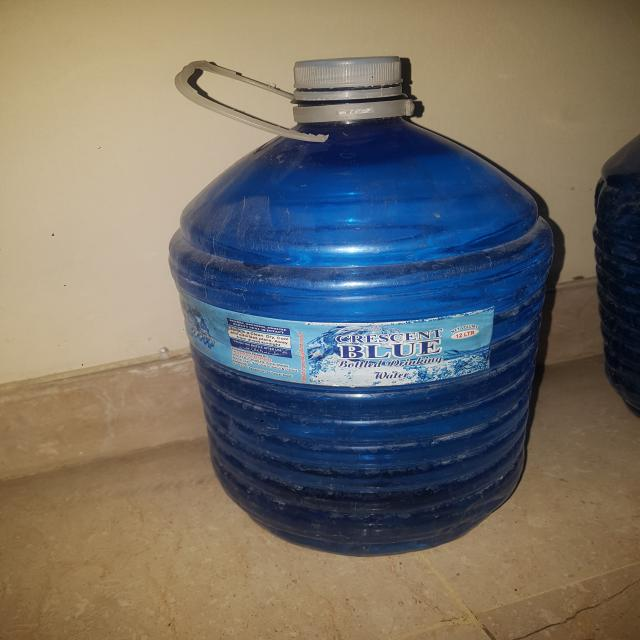general: (166, 55, 555, 557), (591, 132, 639, 417)
